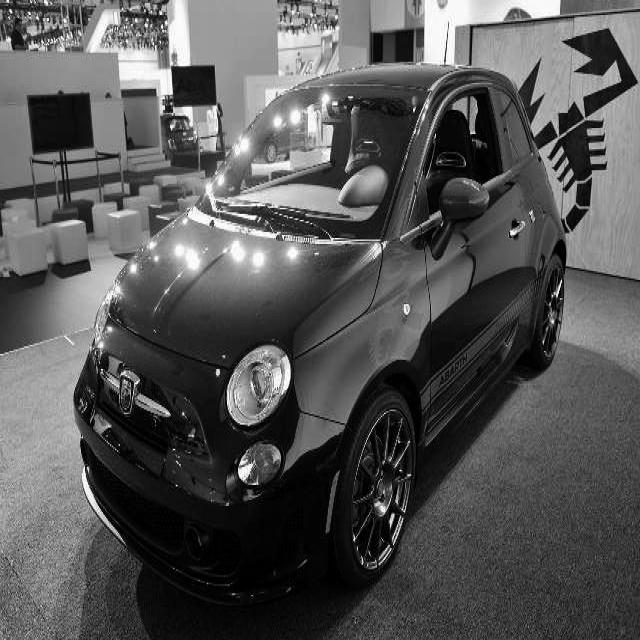car: (72, 61, 567, 608)
